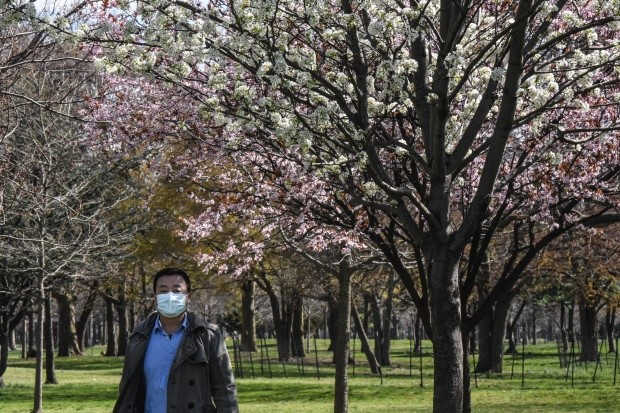face_with_mask: (150, 267, 195, 319)
